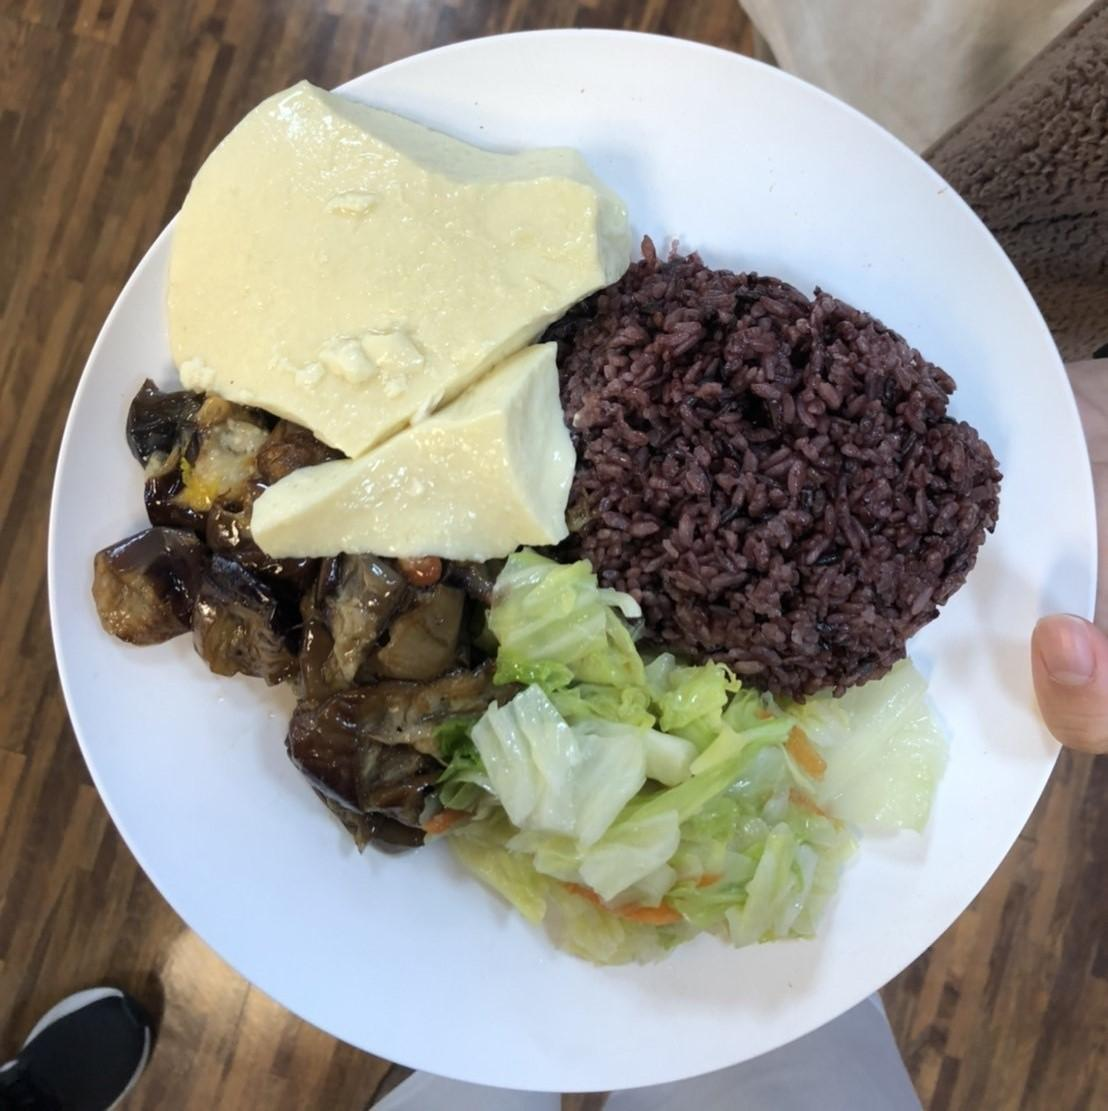big fried chicken leg: (41, 25, 1108, 1105)
braised fish: (563, 258, 1005, 695)
braised fish fillet: (131, 78, 628, 559), (463, 556, 952, 954), (80, 386, 484, 841)
